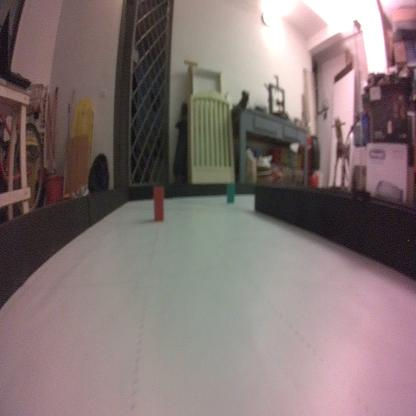green: (227, 182, 235, 205)
red: (152, 185, 165, 223)
